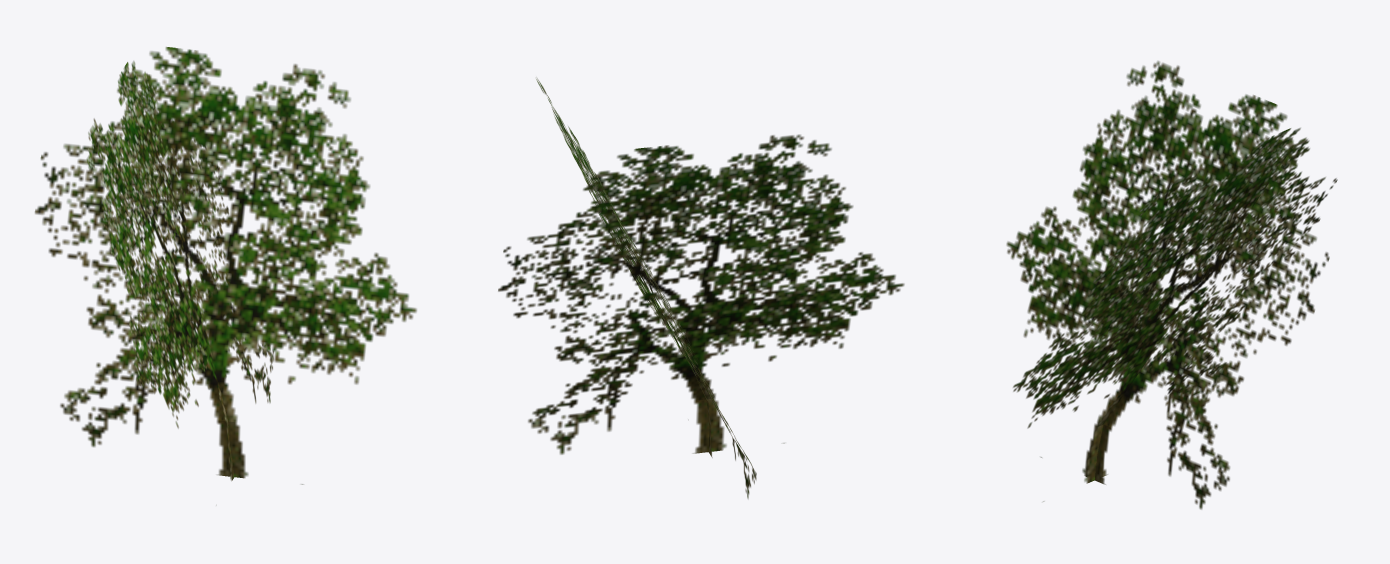
File: tree081.glb
3 views of the same model, side by side, from view 1: azimuth 30°, elevation 25°; view 2: azimuth 150°, elevation 25°; view 3: azimuth 270°, elevation 25° (orthographic). The views are drawn at different scales.
Parts seen in each view (by area): view 1: tree081; view 2: tree081; view 3: tree081.
Part boxes in pixels (x1=…): tree081: x1=35, y1=47, x2=416, y2=505; tree081: x1=498, y1=77, x2=904, y2=498; tree081: x1=1006, y1=61, x2=1337, y2=509.
Bounding box in the file's own units: 3.88 × 3.35 × 3.33.
1 material, 1 textured.
